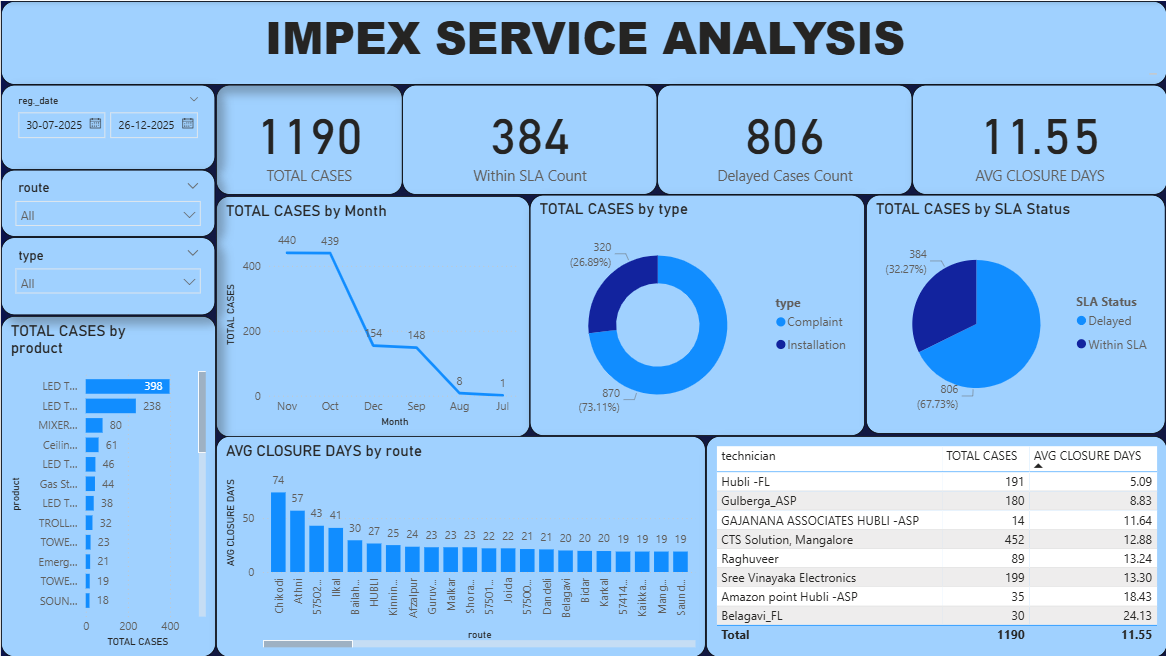

This screenshot's page, from the dashboard's own definition file:
{"tool":"powerbi","page":{"name":"SLA OVERVIEW  DASHBOARD","canvas":[1280,720],"ordinal":0},"visuals":[{"type":"card","fields":{"Values":["Sheet1.TOTAL CASES"]},"box":[236,91.9,204.5,120.8],"z":0},{"type":"textbox","title":"IMPEX SERVICE ANALYSIS","box":[0,0,1280.3,91.9],"z":1000},{"type":"card","fields":{"Values":["DateTable.Within SLA Count"]},"box":[440.5,91.9,279.9,120.8],"z":2000},{"type":"card","fields":{"Values":["DateTable.Delayed Cases Count"]},"box":[720.4,91.9,279.9,120.8],"z":3000},{"type":"card","fields":{"Values":["Sheet1.AVG CLOSURE DAYS"]},"box":[1000.3,91.9,279.9,120.8],"z":4000},{"type":"lineChart","fields":{"Category":["DateTable.Month"],"Y":["Sheet1.TOTAL CASES"]},"box":[236,214.1,344.4,264.8],"z":5000},{"type":"donutChart","fields":{"Category":["Sheet1.type"],"Y":["Sheet1.TOTAL CASES"]},"box":[580.4,212.7,367.8,264.8],"z":6000},{"type":"pieChart","fields":{"Category":["Sheet1.SLA Status"],"Y":["Sheet1.TOTAL CASES"]},"box":[949.5,213.1,329,262.5],"z":7000},{"type":"clusteredBarChart","fields":{"Y":["Sheet1.TOTAL CASES"],"Category":["Sheet1.product"]},"box":[0,345.8,236,374.6],"z":8000},{"type":"clusteredColumnChart","fields":{"Y":["Sheet1.AVG CLOSURE DAYS"],"Category":["Sheet1.route"]},"box":[236,477.5,537.9,242.9],"z":9000},{"type":"tableEx","fields":{"Values":["Sheet1.technician","Sheet1.TOTAL CASES","Sheet1.AVG CLOSURE DAYS"]},"box":[773.9,477.5,506.3,242.9],"z":10000},{"type":"slicer","fields":{"Values":["Sheet1.reg._date"]},"box":[0,92,235.2,93.8],"z":11000},{"type":"slicer","fields":{"Values":["Sheet1.route"]},"box":[0,185.8,235.2,73.3],"z":12000},{"type":"slicer","fields":{"Values":["Sheet1.type"]},"box":[0,259.1,235.2,85.2],"z":13000}]}

Visuals, with their boxes in screenshot pixels (x1, y1, x2, y2), scaled from the page's 1280x720 canvas onto the 1166x656 screenshot:
card - Sheet1.TOTAL CASES: (215, 84, 401, 194)
"IMPEX SERVICE ANALYSIS" textbox: (0, 0, 1165, 84)
card - DateTable.Within SLA Count: (401, 84, 656, 194)
card - DateTable.Delayed Cases Count: (656, 84, 911, 194)
card - Sheet1.AVG CLOSURE DAYS: (911, 84, 1165, 194)
lineChart - DateTable.Month x Sheet1.TOTAL CASES: (215, 195, 529, 436)
donutChart - Sheet1.type x Sheet1.TOTAL CASES: (529, 194, 864, 435)
pieChart - Sheet1.SLA Status x Sheet1.TOTAL CASES: (865, 194, 1165, 433)
clusteredBarChart - Sheet1.TOTAL CASES x Sheet1.product: (0, 315, 215, 655)
clusteredColumnChart - Sheet1.AVG CLOSURE DAYS x Sheet1.route: (215, 435, 705, 655)
tableEx - Sheet1.technician x Sheet1.TOTAL CASES: (705, 435, 1165, 655)
slicer - Sheet1.reg._date: (0, 84, 214, 169)
slicer - Sheet1.route: (0, 169, 214, 236)
slicer - Sheet1.type: (0, 236, 214, 314)
